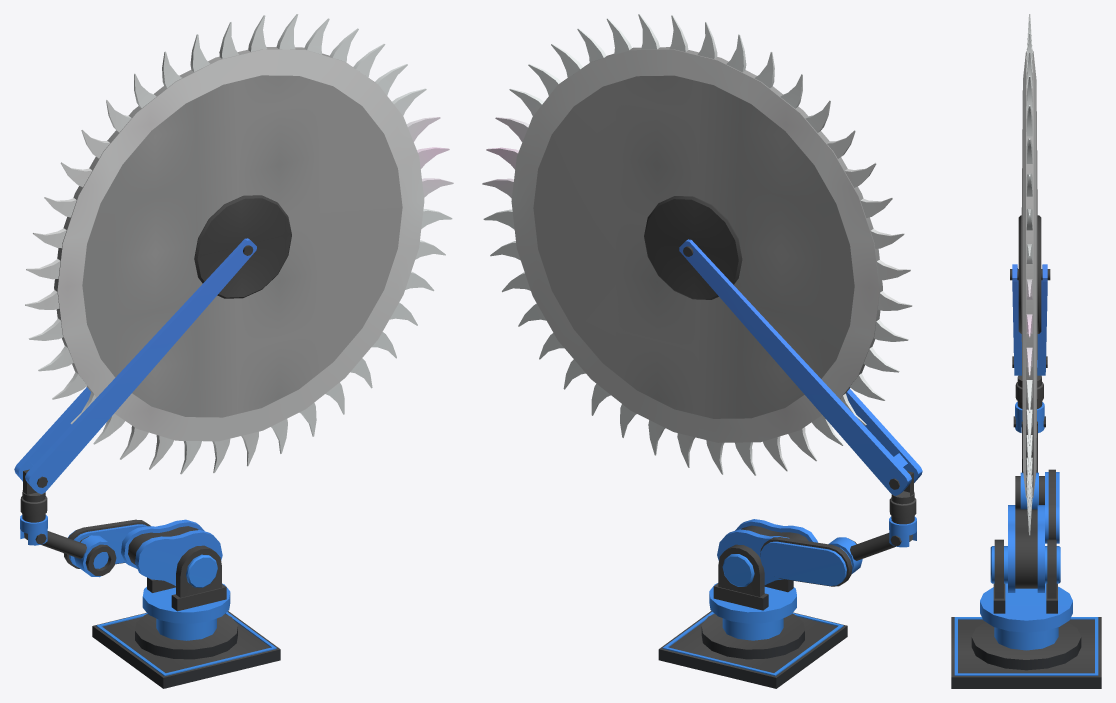
File: gangju.FBX
The picture shows the model from 3 angles, left to right: view 1: azimuth 30°, elevation 25°; view 2: azimuth 150°, elevation 25°; view 3: azimuth 270°, elevation 25°; orthographic projection. The views are drawn at different scales.
Parts seen in each view (by area): view 1: gangju_03; view 2: gangju_03; view 3: gangju_03.
Part boxes in pixels (x1=…): gangju_03: x1=14, y1=14, x2=453, y2=688; gangju_03: x1=482, y1=14, x2=922, y2=688; gangju_03: x1=951, y1=14, x2=1101, y2=688.
Size of the model in its own units: 23.41 by 31.84 by 6.67.
